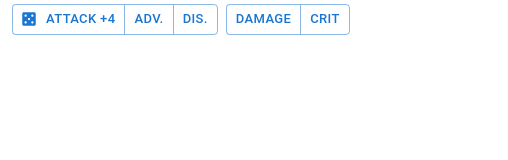
it: AttackRoller › rolls a flat amount of damage as it is
This screenshot has width=508, height=160.
Click the button with aria-label "Roll damage for Bite": x=264, y=19 [226, 4, 301, 35]
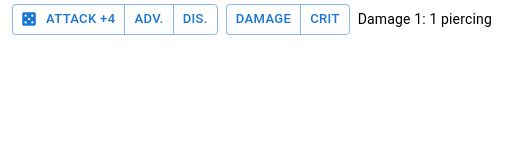
Expected: the message reads "Damage 1: 1 piercing", [358, 11, 492, 27]
